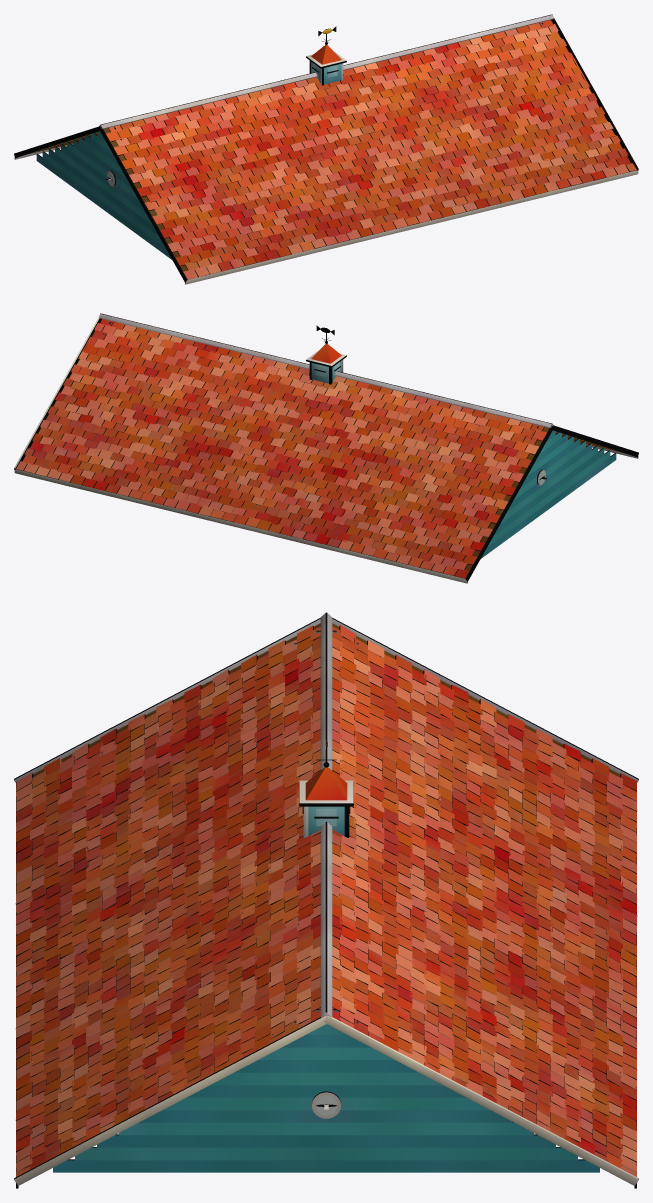
The model's file is museum_roof_4.glb.
3 renders of one model, top to bottom at view 1: azimuth 30°, elevation 25°; view 2: azimuth 150°, elevation 25°; view 3: azimuth 270°, elevation 25°, orthographic. The views are drawn at different scales.
Parts seen in each view (by area): view 1: SM_Roof_Shingles, SM_Roof_Fascia, SM_Roof_Gables, SM_Roof_Deck, SM_Roof_Cupola; view 2: SM_Roof_Shingles, SM_Roof_Fascia, SM_Roof_Gables, SM_Roof_Deck, SM_Roof_Cupola; view 3: SM_Roof_Shingles, SM_Roof_Gables, SM_Roof_Fascia, SM_Roof_Cupola, SM_Roof_Deck.
Part boxes in pixels (x1,y1,x2,y2): SM_Roof_Shingles: [106, 19, 636, 279]; SM_Roof_Fascia: [14, 14, 638, 284]; SM_Roof_Gables: [36, 23, 555, 259]; SM_Roof_Deck: [30, 23, 629, 276]; SM_Roof_Cupola: [306, 26, 346, 85]; SM_Roof_Shingles: [16, 318, 546, 578]; SM_Roof_Fascia: [14, 313, 638, 583]; SM_Roof_Gables: [103, 322, 616, 558]; SM_Roof_Deck: [23, 322, 622, 572]; SM_Roof_Cupola: [306, 325, 346, 384]; SM_Roof_Shingles: [15, 625, 637, 1176]; SM_Roof_Gables: [53, 630, 599, 1172]; SM_Roof_Fascia: [14, 612, 638, 1188]; SM_Roof_Cupola: [299, 731, 353, 837]; SM_Roof_Deck: [33, 623, 619, 777].
Size of the model in its own units: 23.34 by 6.8 by 15.38.
2 materials, 1 textured.
